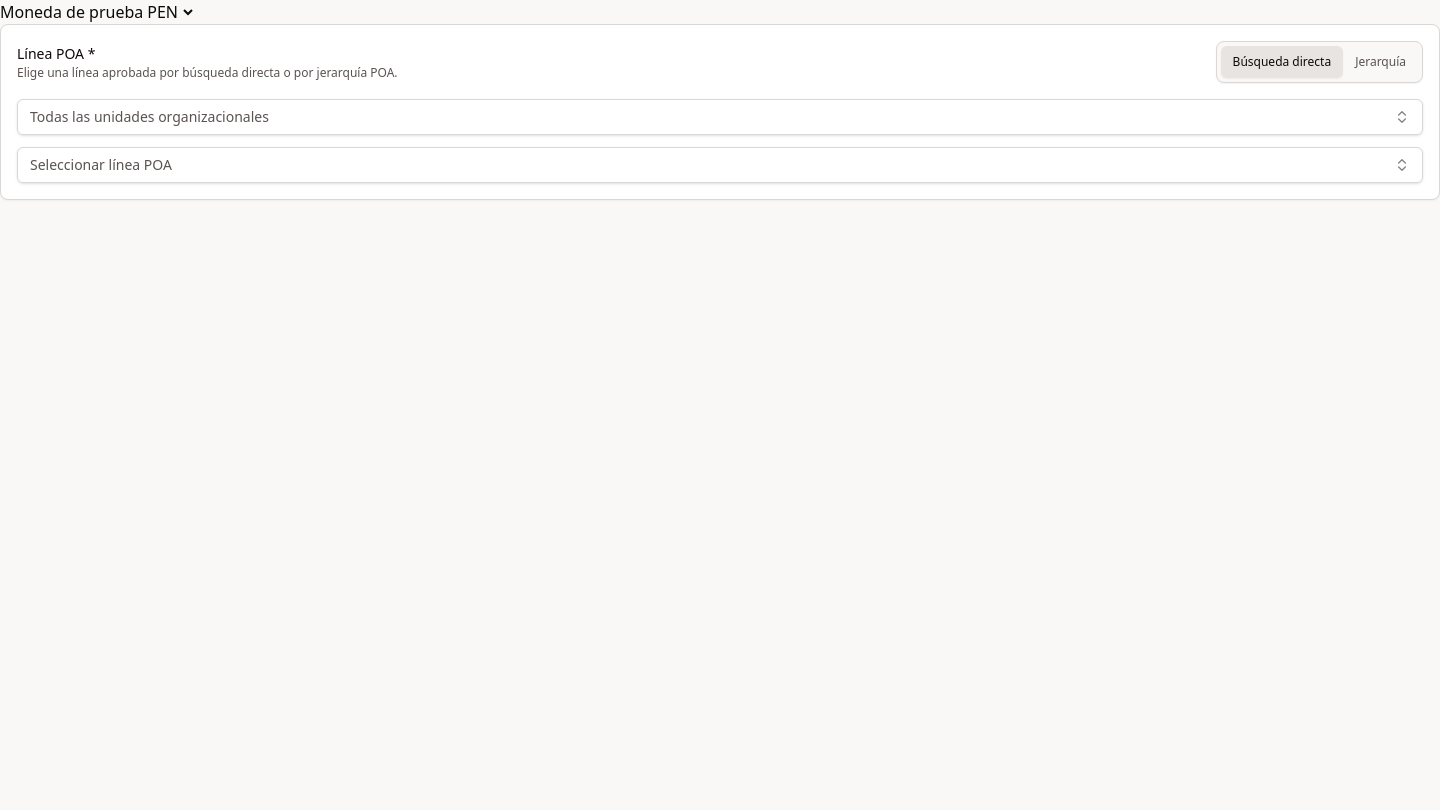
Scenario: PlanningLineSelector › usa los mismos cuatro campos etiquetados en los subtítulos de opciones
Click the button with test id "request-planning-line-trigger".
click(101, 164)  # box [17,147,1423,183]
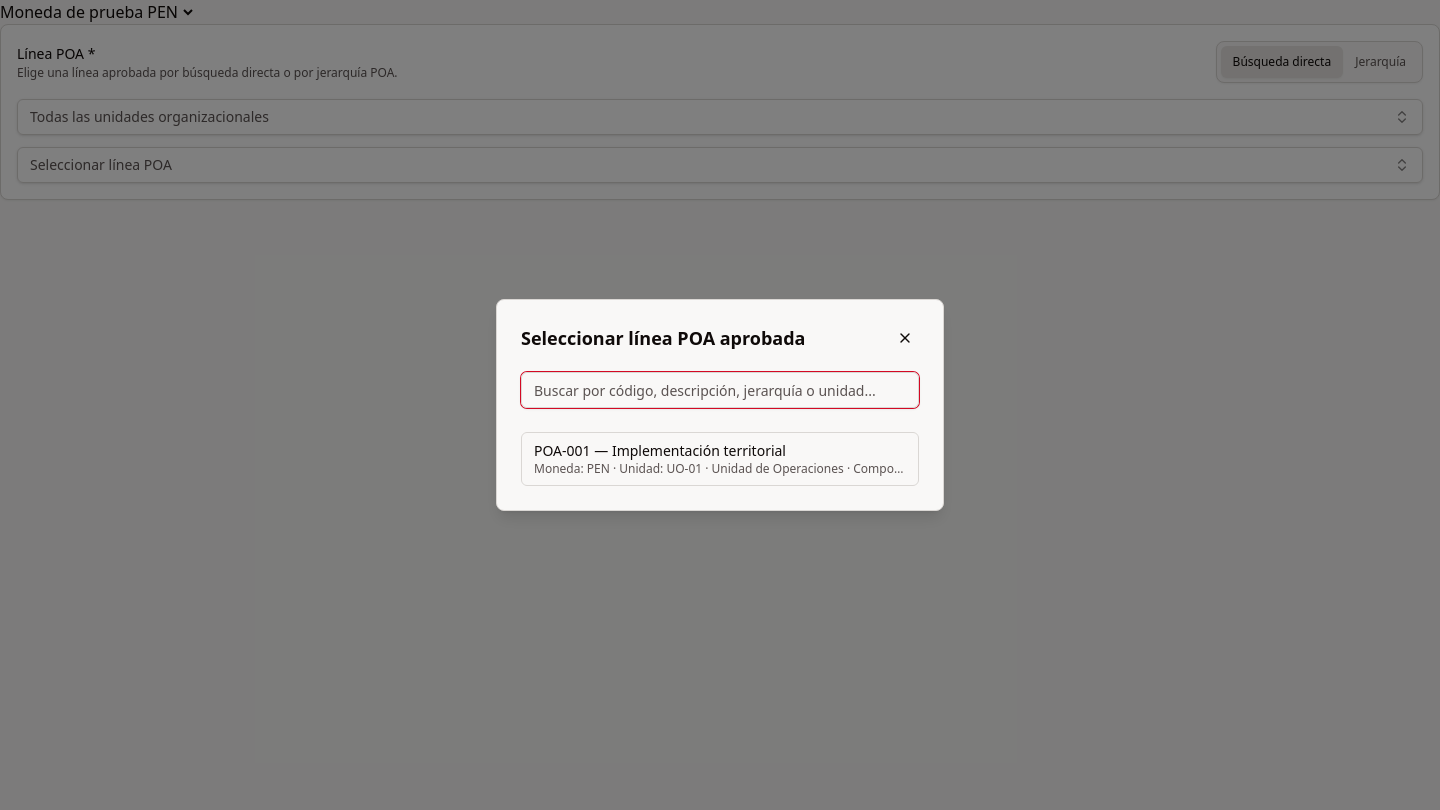
Expected: the button with test id "request-planning-line-trigger-option" shows "Unidad: UO-01 · Unidad de Operaciones", [522,433,918,485]
Expected: the button with test id "request-planning-line-trigger-option" shows "Moneda: PEN", [522,433,918,485]
Expected: the button with test id "request-planning-line-trigger-option" shows "Componente: Fortalecimiento comunitario", [522,433,918,485]
